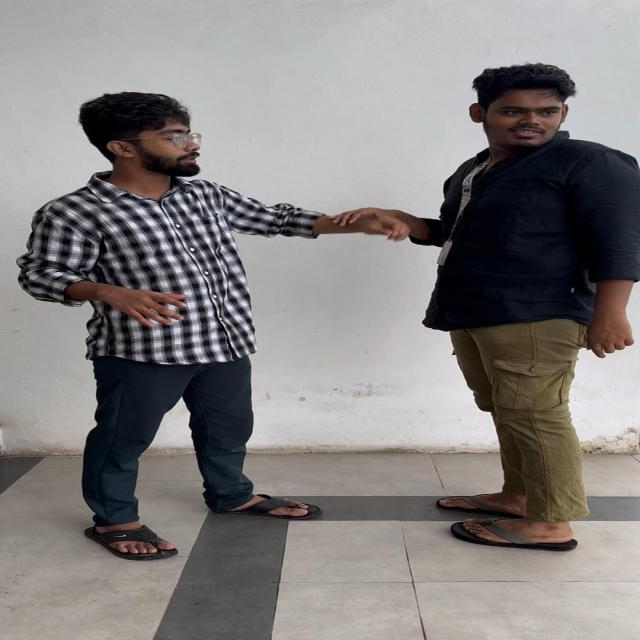fight: (18, 52, 640, 578)
